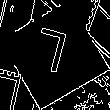L_S: (33, 27, 77, 83)
